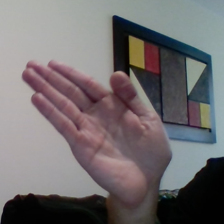left: (20, 46, 187, 202)
